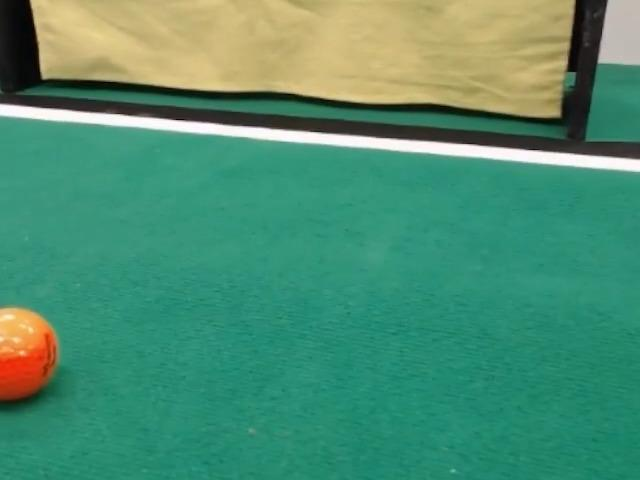Ball: (0, 308, 58, 401)
